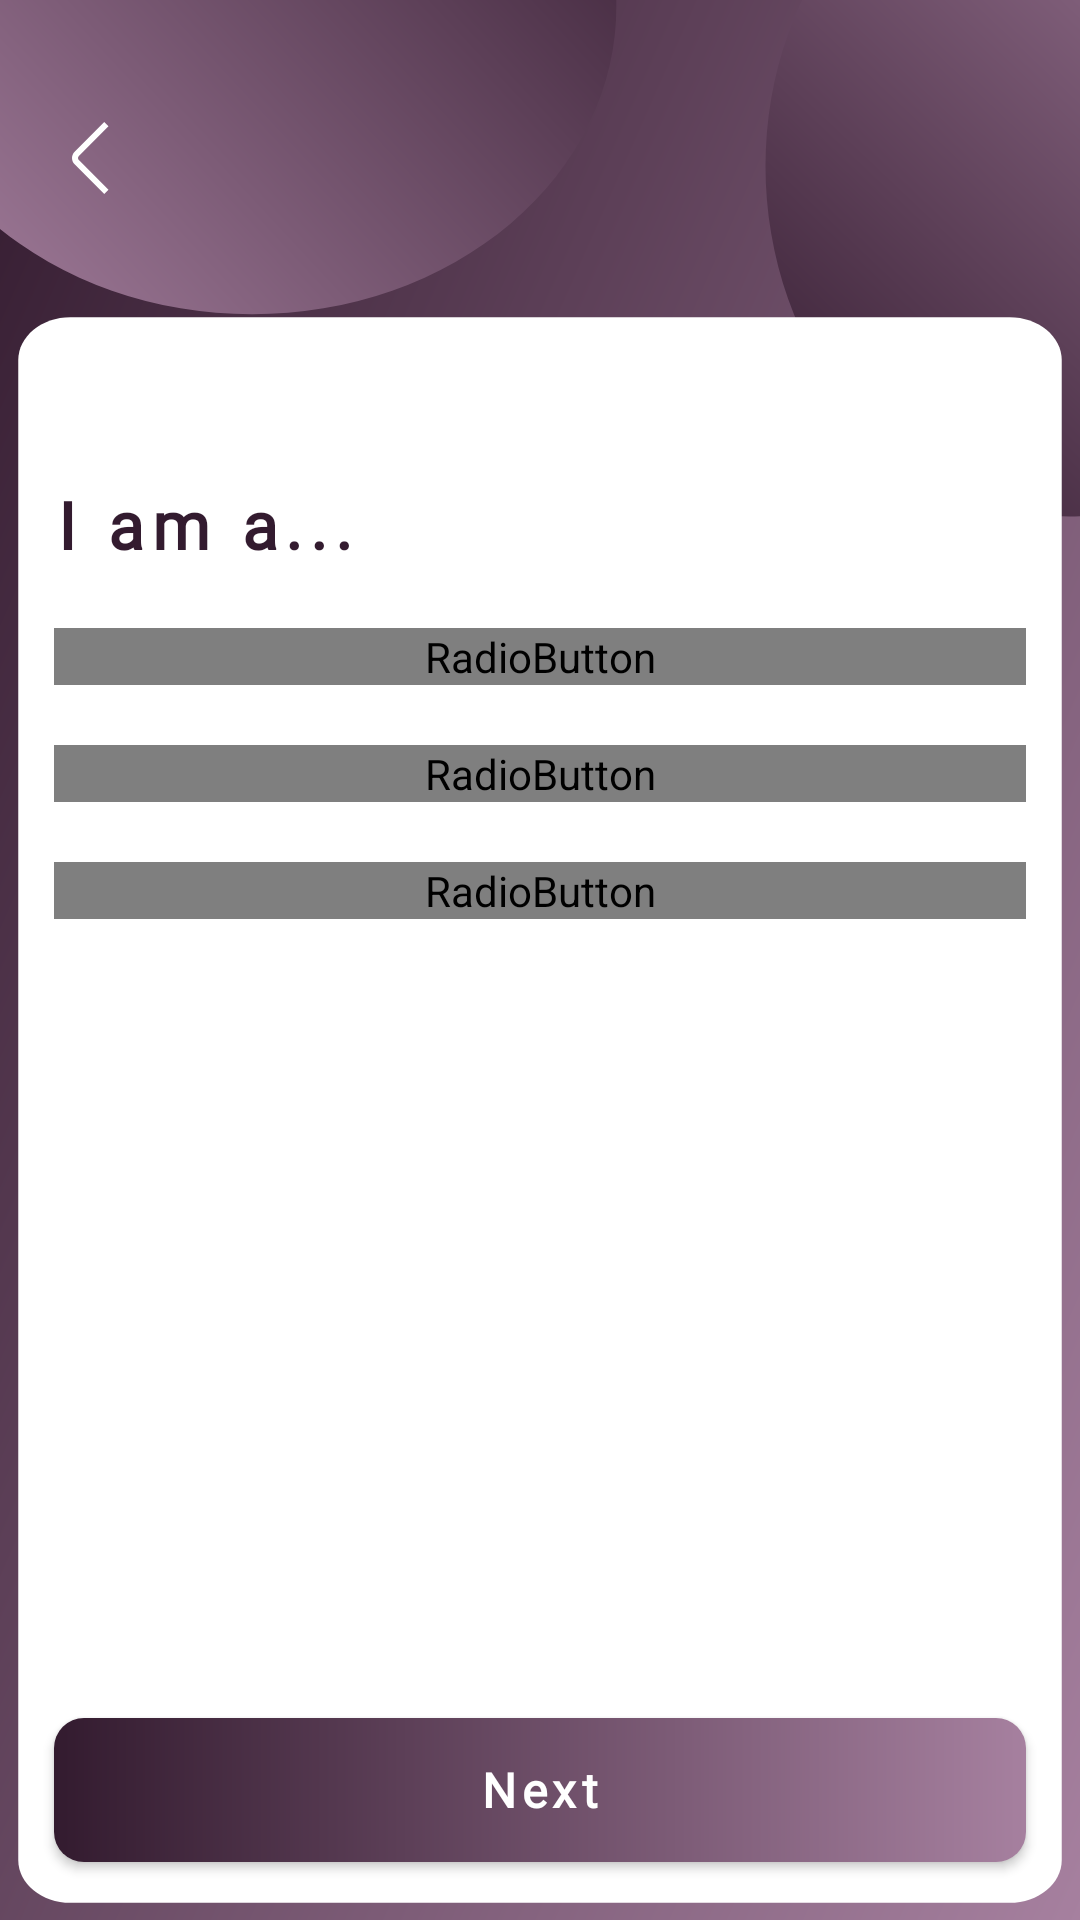

Named icons in this screenshot (1080x1920) and their centers, point (x, y):
back arrow: point (90, 158)
